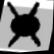not correct: (0, 0, 51, 53)
